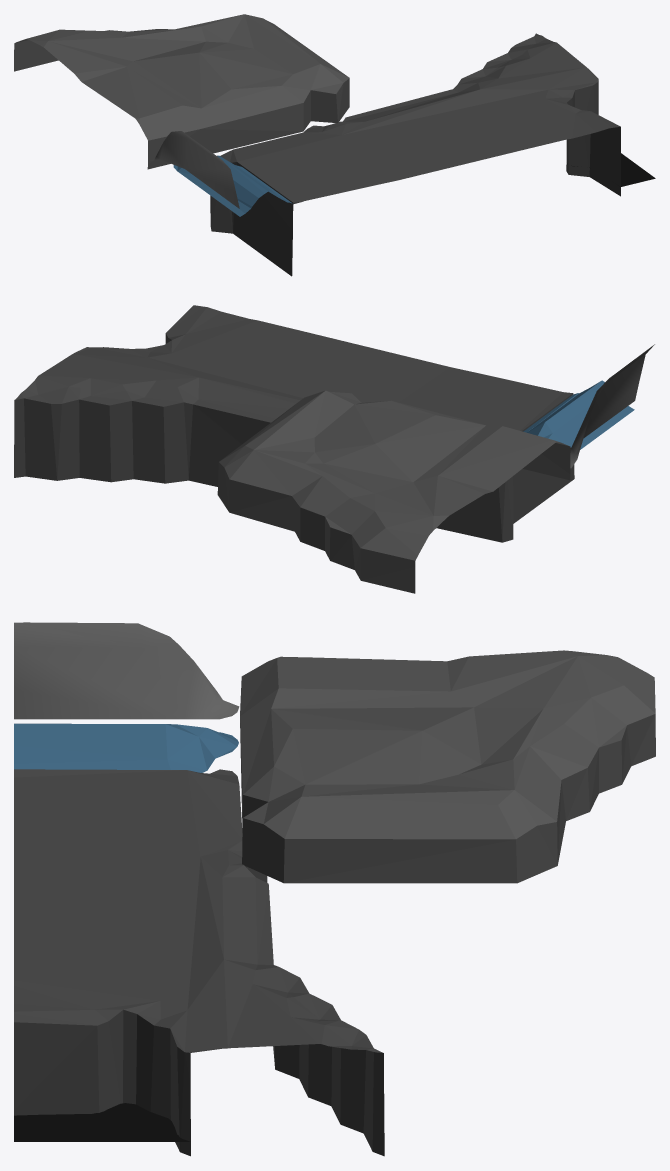
The model's file is newsho-5.glb.
3 views of the same model, one above another, from view 1: azimuth 30°, elevation 25°; view 2: azimuth 150°, elevation 25°; view 3: azimuth 270°, elevation 25° (orthographic). The views are drawn at different scales.
Visible parts, largest first — view 1: newsho-5; view 2: newsho-5; view 3: newsho-5.
Boxes of the visible parts, x1,y1,x2,y2 form: newsho-5: [14, 14, 655, 276]; newsho-5: [14, 305, 654, 593]; newsho-5: [14, 622, 655, 1156].
Size of the model in its own units: 2 by 0.591 by 1.66.
